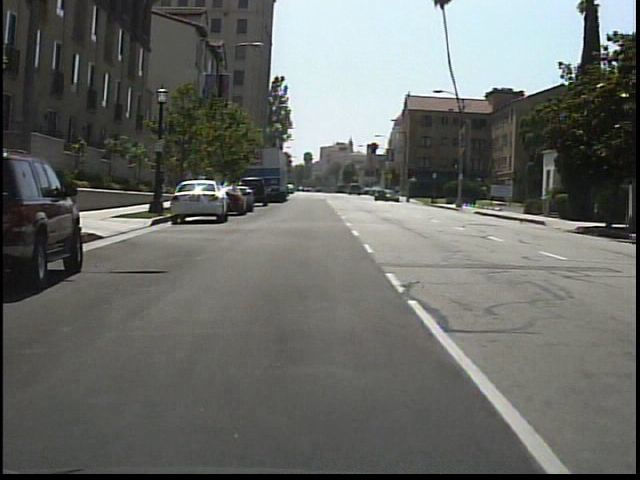person: (152, 167, 170, 212)
